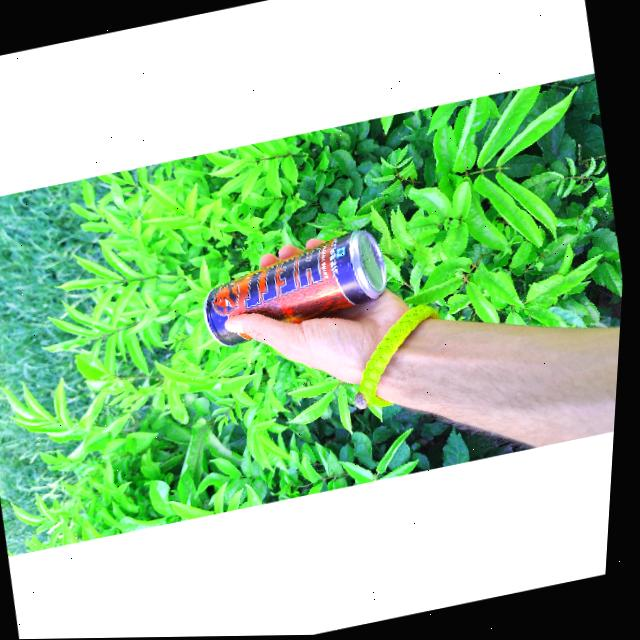Hell Classic: (204, 228, 394, 346)
